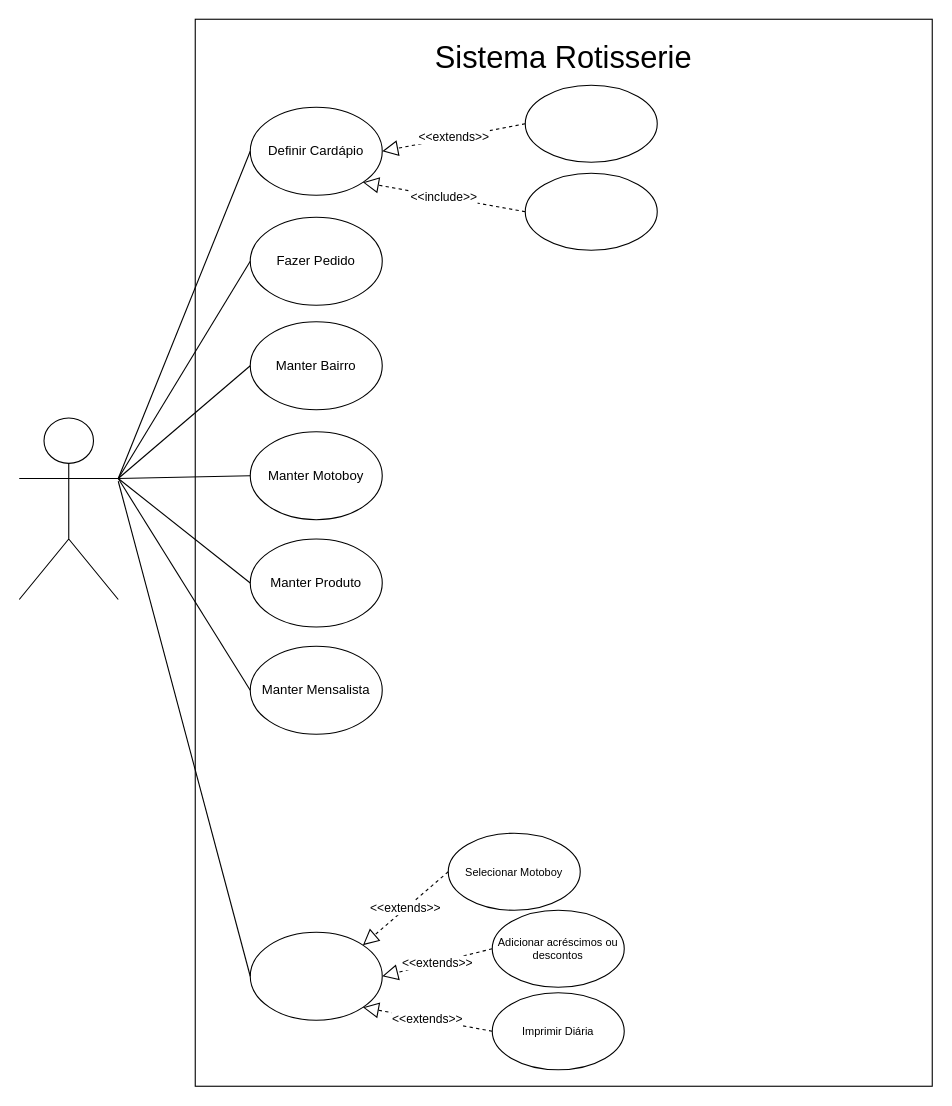
Image size: 952x1106. Some labels were removed from this diagram. The shapes that lost their labels are listed below. From the top down, each one's box as (x1, y1, x2, y2) in pixels, then its label:
(524, 84, 657, 162): Definir Principais, Misturas e Guarnições
(524, 172, 657, 250): Atualizar Cardápio
(18, 417, 118, 600): Caixa
(249, 931, 382, 1020): Fechar Diária
